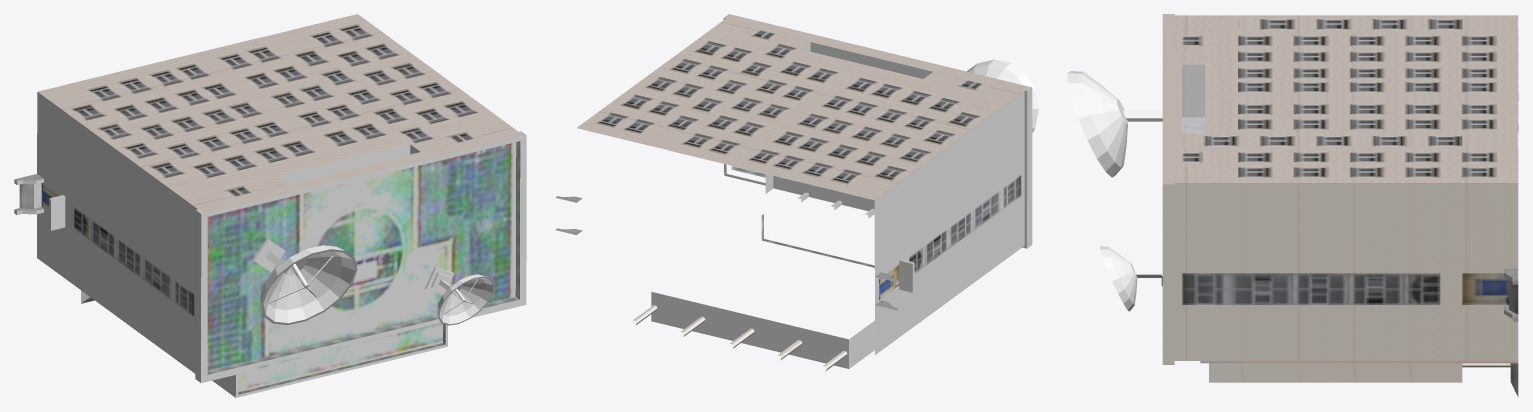
Rendered from ykxt.glb.
3 renders of one model, left to right at view 1: azimuth 30°, elevation 25°; view 2: azimuth 150°, elevation 25°; view 3: azimuth 270°, elevation 25°, orthographic. The views are drawn at different scales.
Parts seen in each view (by area): view 1: Box66_0; view 2: Box66_0; view 3: Box66_0.
Boxes of the visible parts, x1,y1,x2,y2 form: Box66_0: (14, 14, 526, 397); Box66_0: (555, 14, 1038, 371); Box66_0: (1067, 14, 1518, 396).
Size of the model in its own units: 36.21 by 21.11 by 36.15.
Materials: 1 (1 with a texture image).
